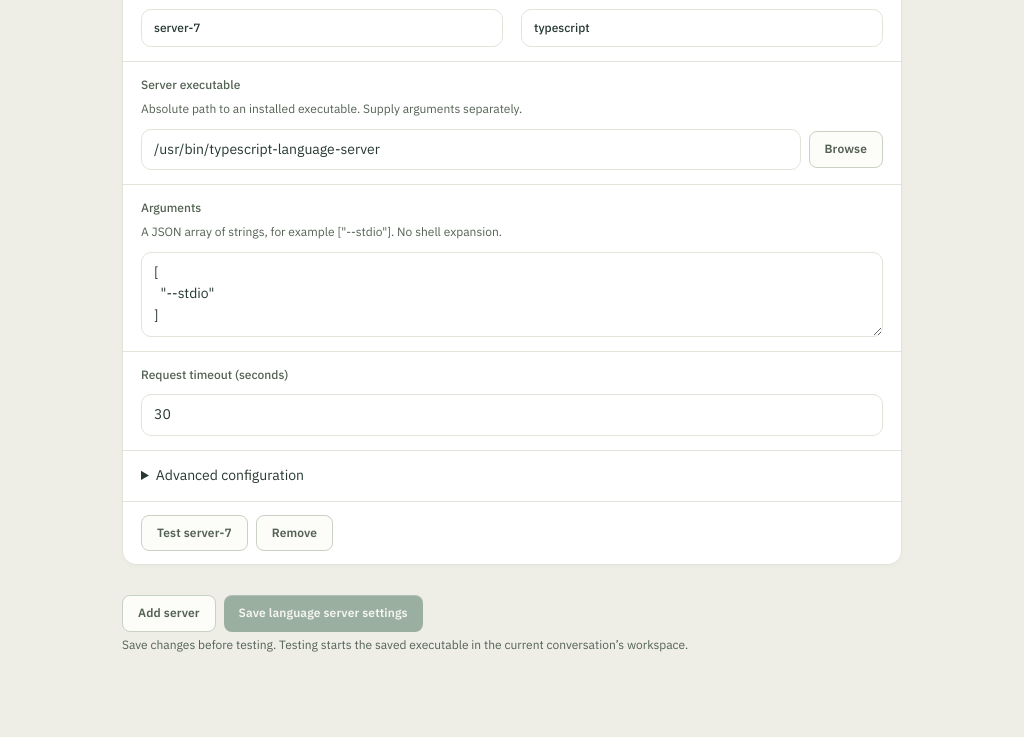
language server settings › adds unique servers, caps the list, and removes only the chosen server
The image size is (1024, 737).
(page scrolled)
Click the button "Add server": (169, 614) [122, 595, 216, 632]
(page scrolled)
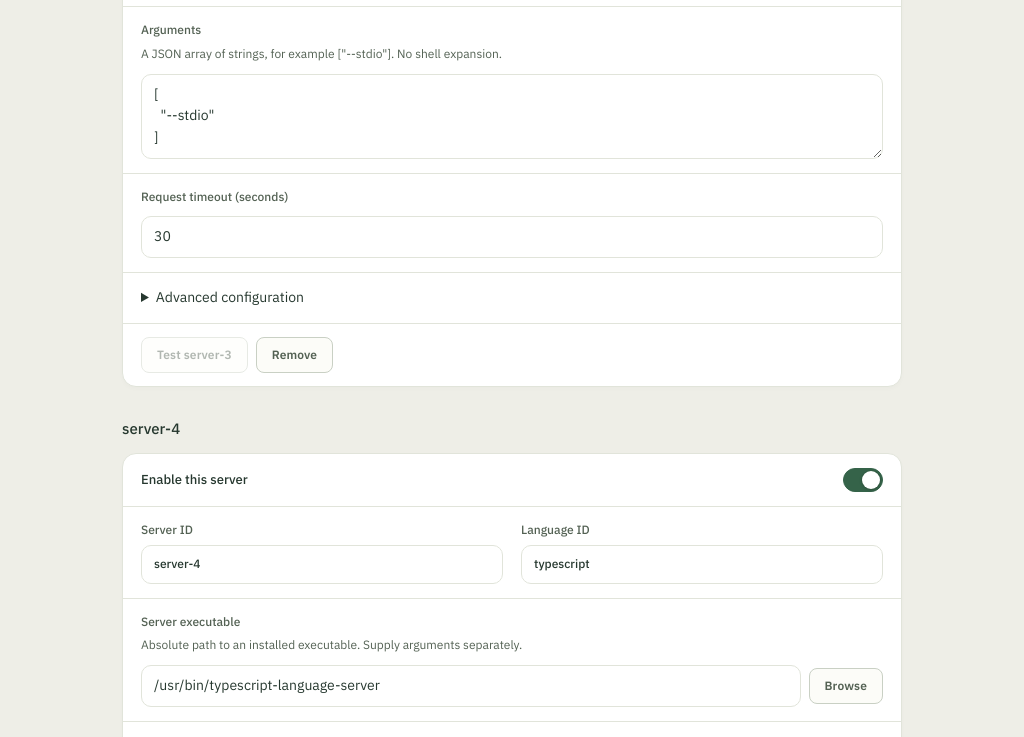
Click the button with aria-label "Remove server-3": (294, 355) [256, 337, 333, 373]
(page scrolled)
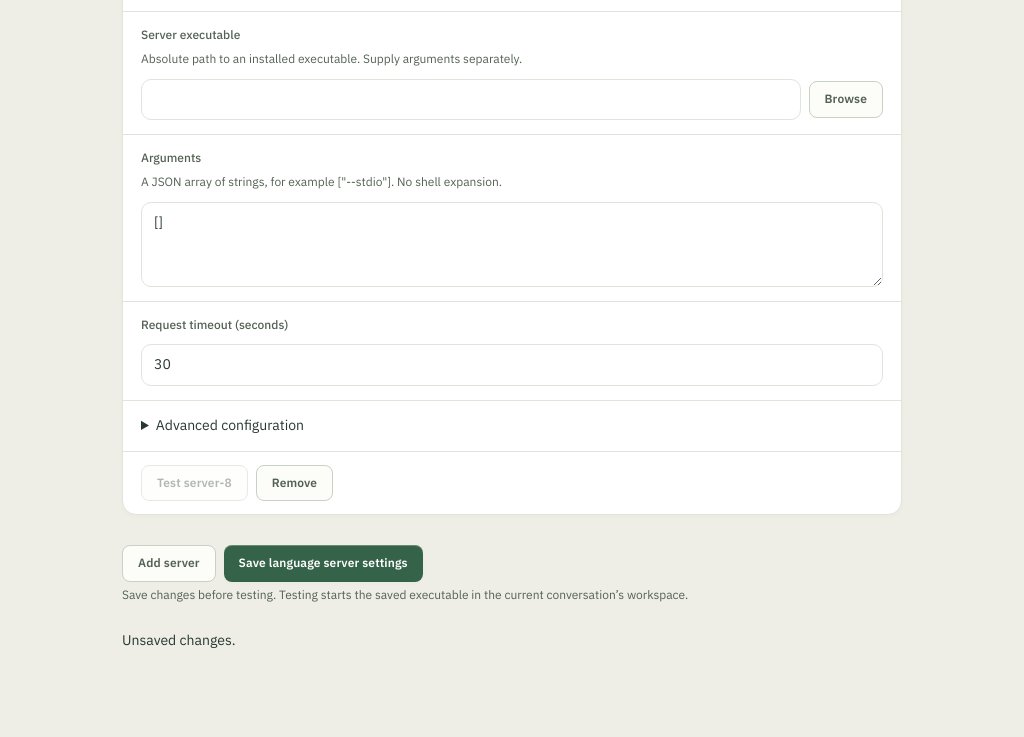
Now the button "Add server" is enabled, box [122, 545, 216, 582]
